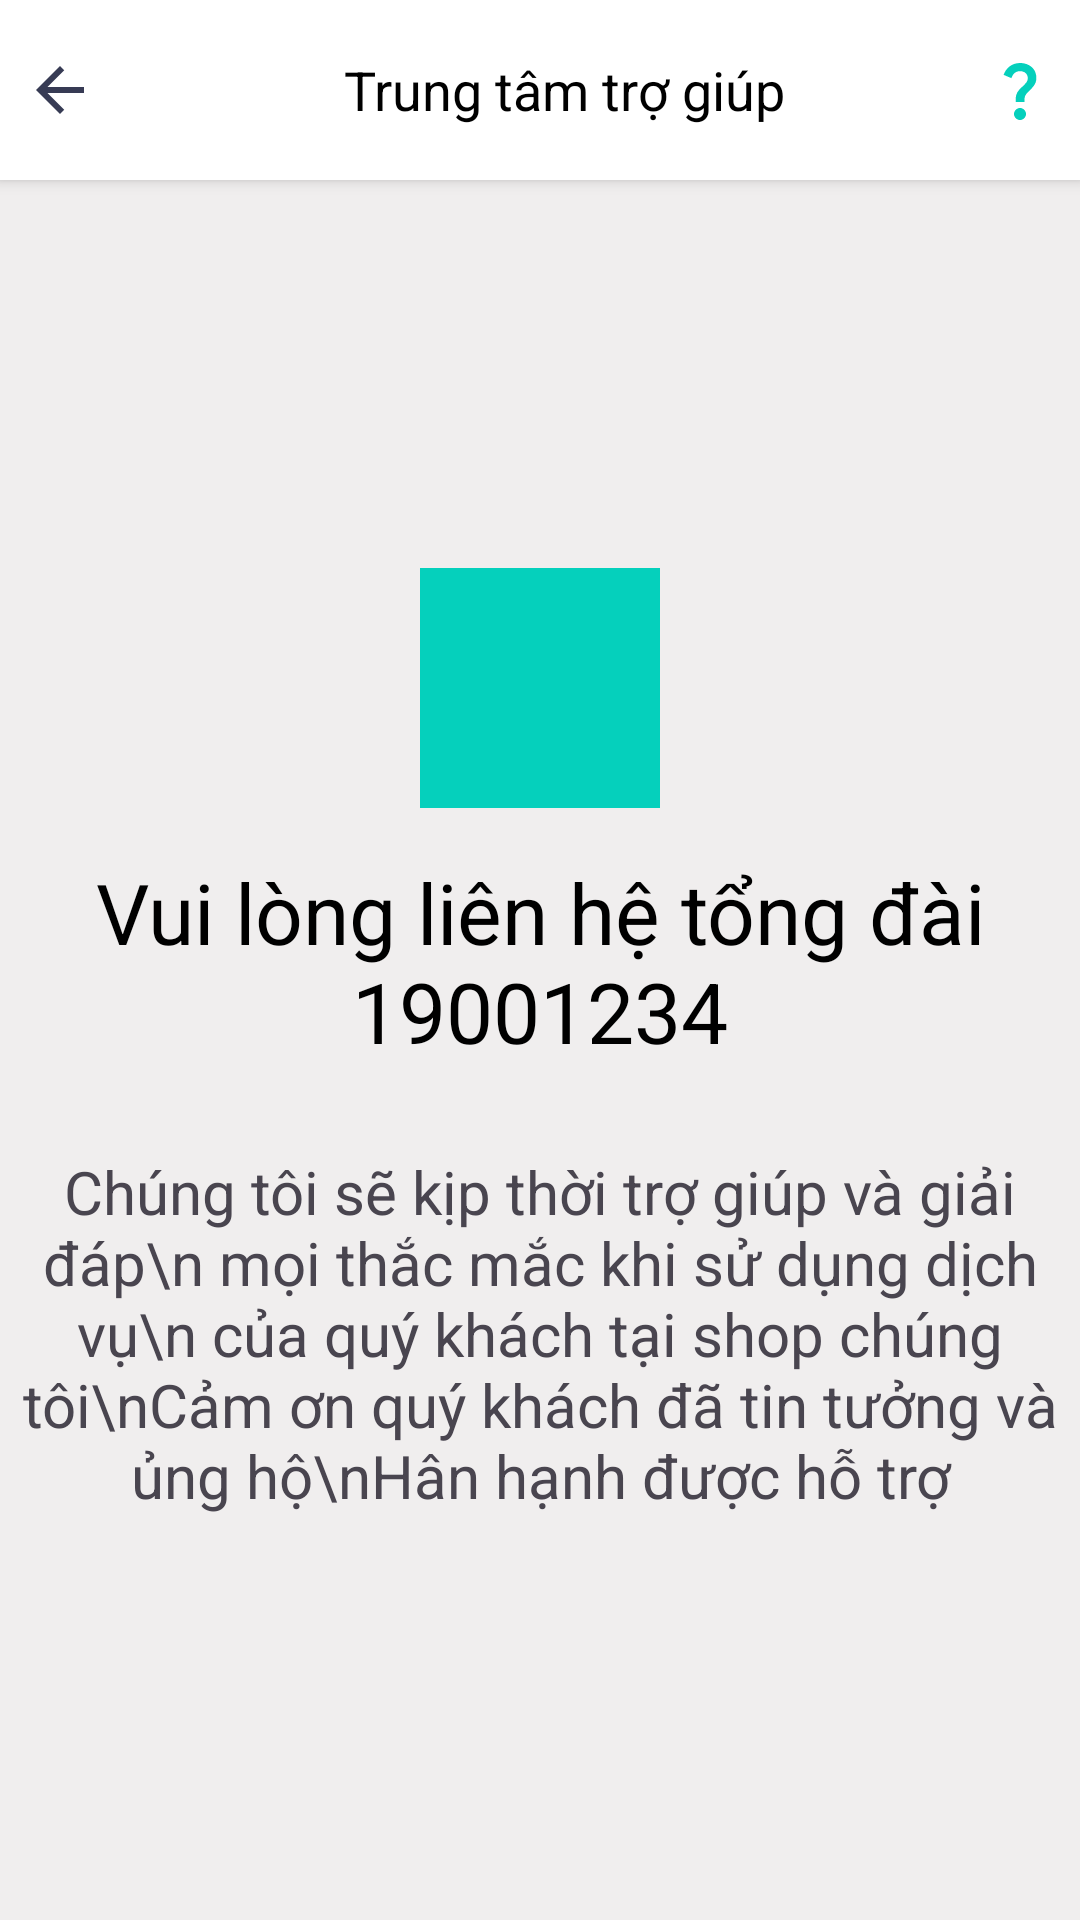

Locate icon controls on the screen. Image size 1080 x 1920, boxes as [x1, y1, x2, y2].
arrow back: [36, 66, 84, 114]
question mark: [1003, 63, 1037, 120]
